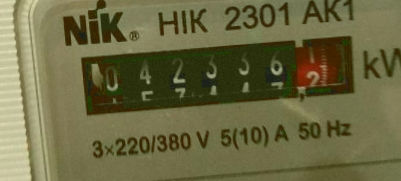0: (102, 63, 120, 92)
1: (303, 42, 317, 64)
2: (169, 54, 187, 84), (303, 67, 321, 87)
3: (233, 46, 251, 77), (201, 50, 218, 79)
4: (135, 55, 154, 85)
6: (267, 45, 286, 76)
screen: (68, 21, 369, 124)
